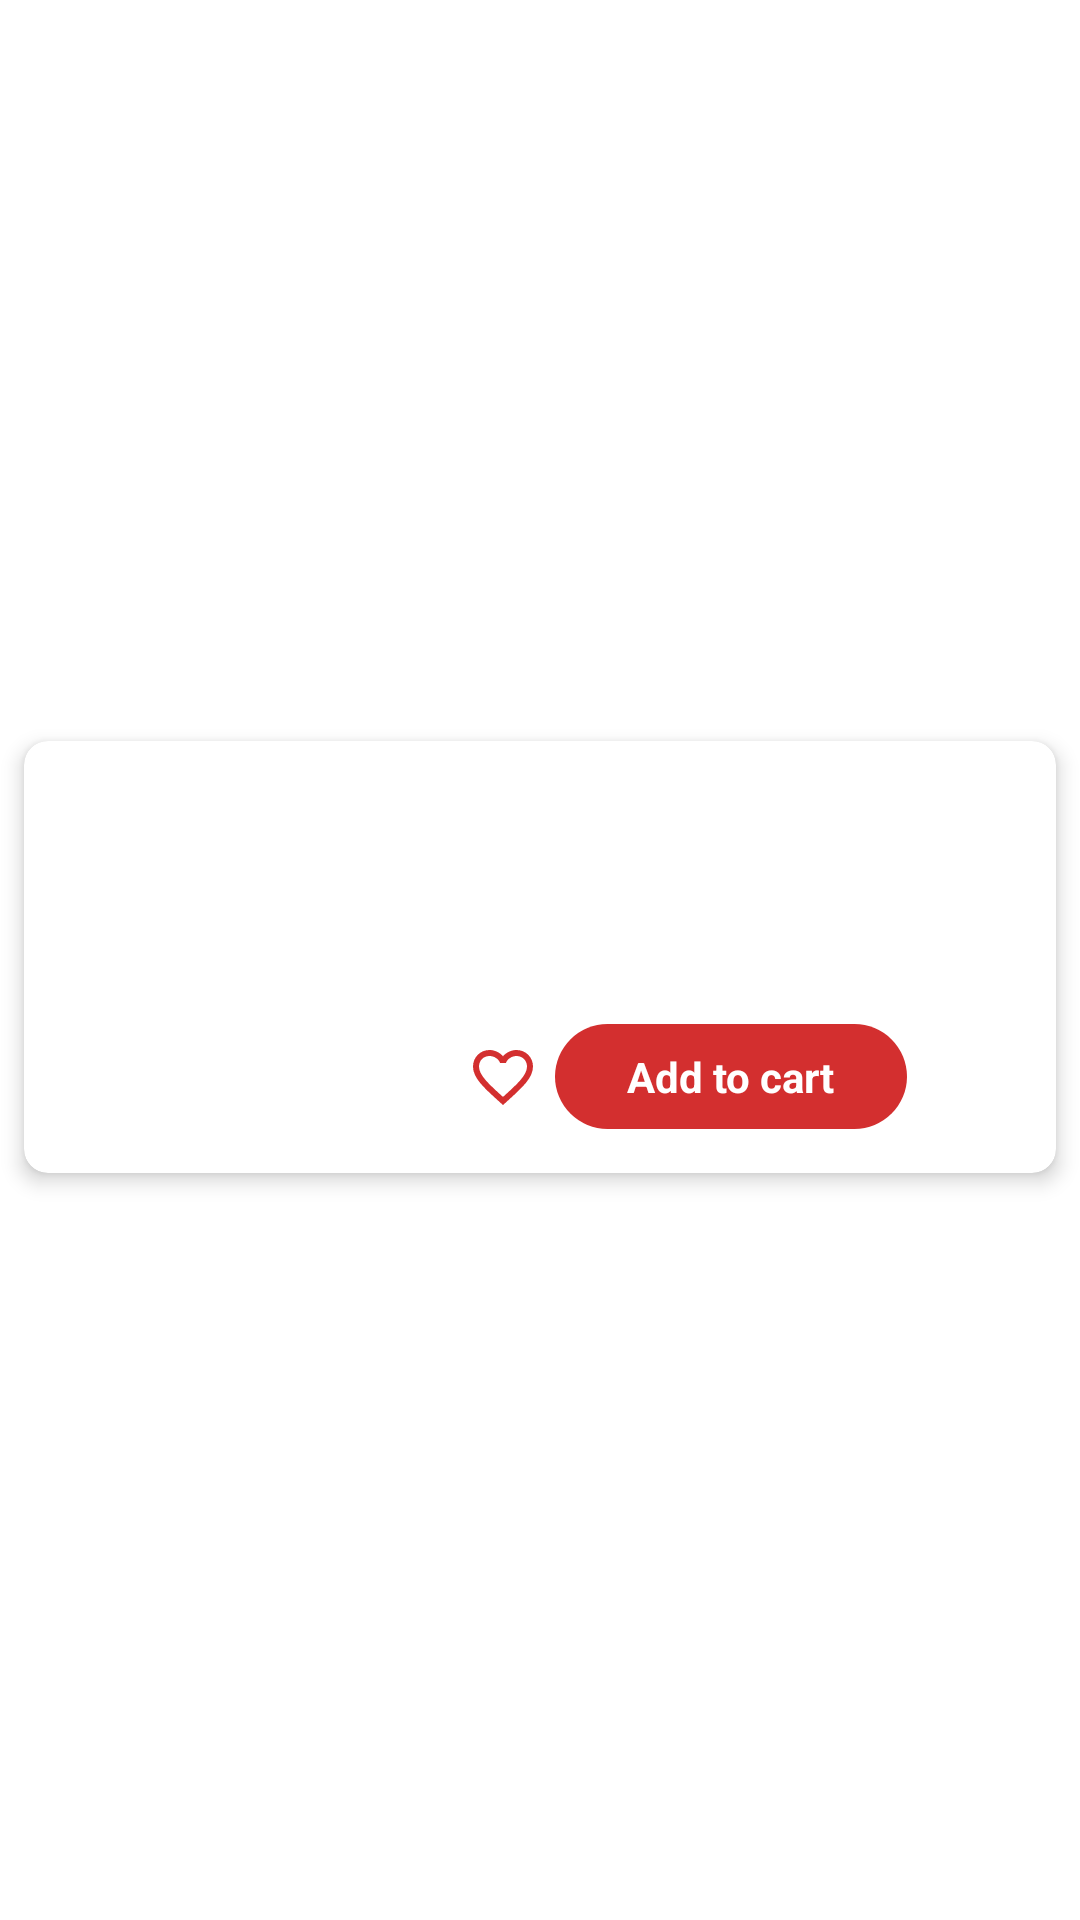

Point at icon controls on the screen. Image size 1080 x 1920, points as (x,y).
favorite border: (503,1077)
